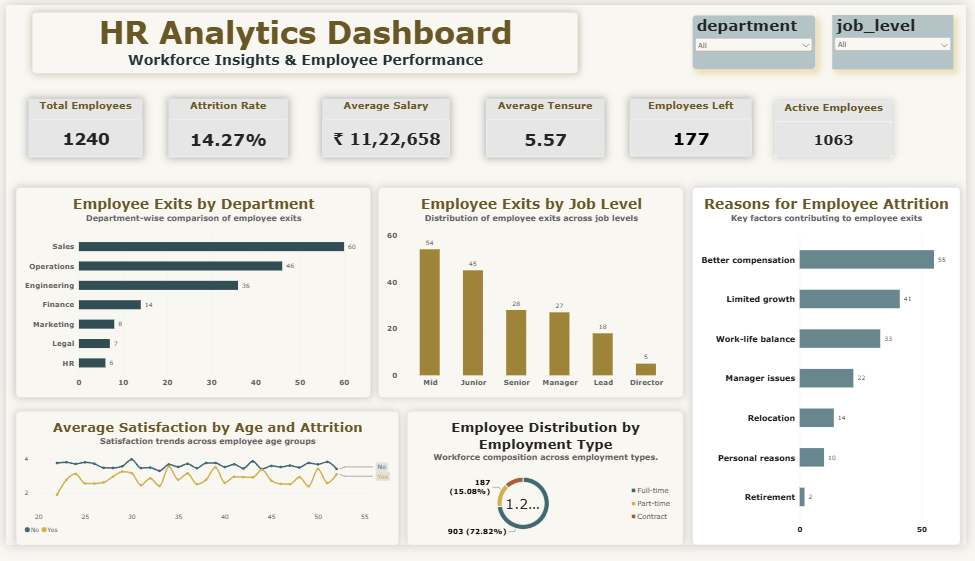

What the dashboard file says about the page in this screenshot:
{"tool":"powerbi","page":{"name":"HR_Analytics_Dasboard","canvas":[1920,1080],"ordinal":0},"visuals":[{"type":"cardVisual","title":"Total Employees","fields":{"Data":["hr_employees.Total Employees"]},"box":[45.2,188.2,228,117.6],"z":0},{"type":"cardVisual","title":"Attrition Rate","fields":{"Data":["hr_employees.Attrition Rate"]},"box":[325.7,188.2,238.9,117.6],"z":1000},{"type":"cardVisual","title":"Average Salary","fields":{"Data":["hr_employees.Average Salary"]},"box":[633.4,186.4,255.2,117.6],"z":2000},{"type":"cardVisual","title":"Average Tensure","fields":{"Data":["hr_employees.Average Tenure"]},"box":[959.1,188.2,237.1,117.6],"z":3000},{"type":"cardVisual","title":"Employees Left","fields":{"Data":["hr_employees.Employees Left"]},"box":[1248.7,188.2,244.3,115.8],"z":4000},{"type":"textbox","title":" HR Analytics Dashboard","box":[52.5,14.5,1091.2,121.2],"z":5000},{"type":"clusteredBarChart","title":"Employee Exits by Department","fields":{"Category":["hr_employees.department"],"Y":["hr_employees.Employees Left"]},"box":[19.9,365.6,709.4,419.8],"z":6000},{"type":"clusteredColumnChart","title":"Employee Exits by Job Level","fields":{"Category":["hr_employees.job_level"],"Y":["hr_employees.Employees Left"]},"box":[745.6,365.6,609.9,419.8],"z":7000},{"type":"clusteredBarChart","title":"Reasons for Employee Attrition","fields":{"Category":["hr_employees.exit_reason"],"Y":["hr_employees.Employees Left"]},"box":[1371.7,365.6,535.7,714.8],"z":8000},{"type":"lineChart","title":"Average Satisfaction by Age and Attrition","fields":{"Category":["hr_employees.age"],"Series":["hr_employees.attrition"],"Y":["Avg(hr_employees.satisfaction_score)"]},"box":[19.9,812.5,765.5,267.8],"z":9000},{"type":"slicer","fields":{"Values":["hr_employees.department"]},"box":[1371.7,19.9,246.1,108.6],"z":10000},{"type":"slicer","fields":{"Values":["hr_employees.job_level"]},"box":[1652.2,19.9,242.5,108.6],"z":11000},{"type":"donutChart","title":"Employee Distribution by Employment Type","fields":{"Category":["hr_employees.employment_type"],"Y":["CountNonNull(hr_employees.employee_id)"]},"box":[803.5,812.5,551.9,267.8],"z":11001},{"type":"cardVisual","title":"Active Employees","fields":{"Data":["hr_employees.Active Employees"]},"box":[1538.2,191.8,235.3,112.2],"z":11002}]}

Visuals, with their boxes in screenshot pixels (x1, y1, x2, y2), scaled from the page's 1920x1080 canvas onto the 975x561 screenshot:
"Total Employees" cardVisual: crop(23, 98, 139, 159)
"Attrition Rate" cardVisual: crop(165, 98, 287, 159)
"Average Salary" cardVisual: crop(322, 97, 451, 158)
"Average Tensure" cardVisual: crop(487, 98, 607, 159)
"Employees Left" cardVisual: crop(634, 98, 758, 158)
" HR Analytics Dashboard" textbox: crop(27, 8, 581, 70)
"Employee Exits by Department" clusteredBarChart: crop(10, 190, 370, 408)
"Employee Exits by Job Level" clusteredColumnChart: crop(379, 190, 688, 408)
"Reasons for Employee Attrition" clusteredBarChart: crop(697, 190, 969, 560)
"Average Satisfaction by Age and Attrition" lineChart: crop(10, 422, 399, 560)
slicer - hr_employees.department: crop(697, 10, 822, 67)
slicer - hr_employees.job_level: crop(839, 10, 962, 67)
"Employee Distribution by Employment Type" donutChart: crop(408, 422, 688, 560)
"Active Employees" cardVisual: crop(781, 100, 901, 158)
